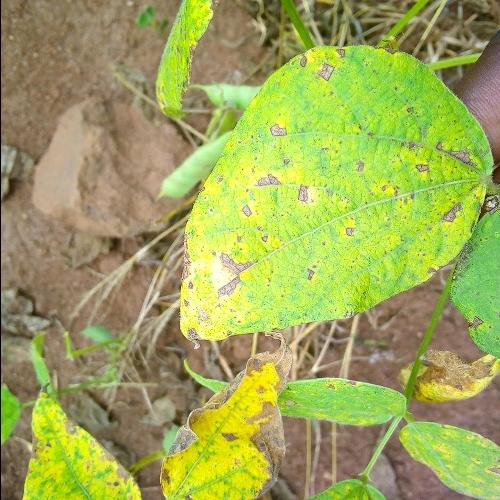hawar: (174, 38, 493, 346)
